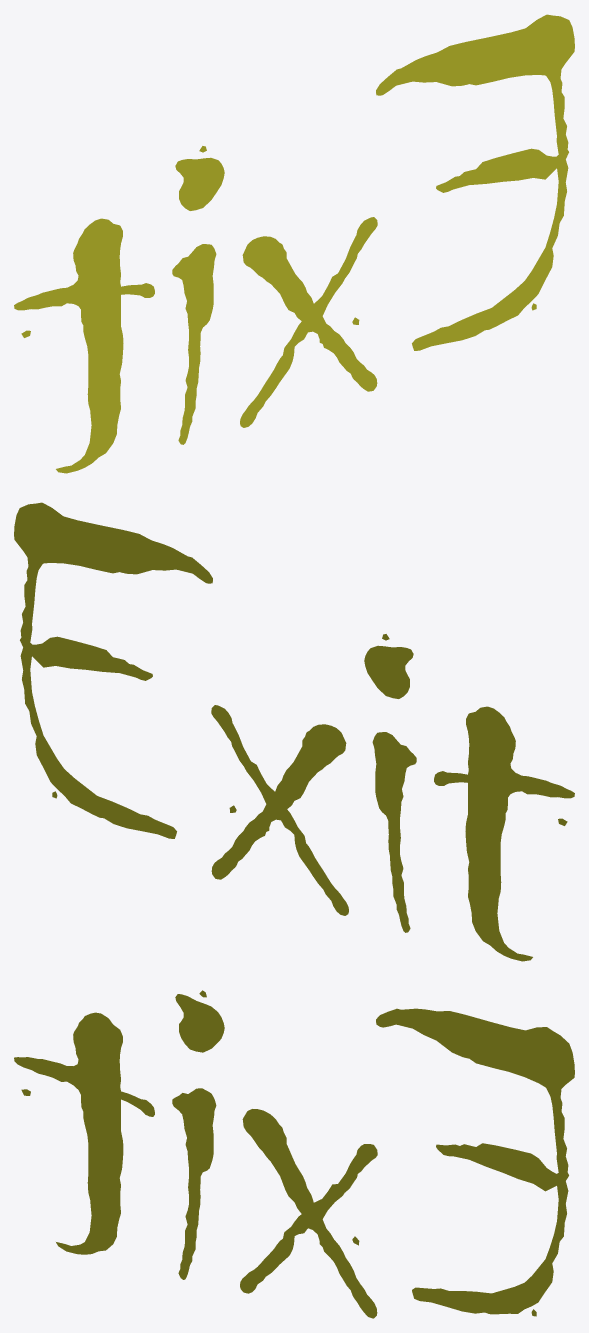
File: ExitMenuButtonText.obj
The picture shows the model from 3 angles, top to bottom: view 1: azimuth 30°, elevation 25°; view 2: azimuth 150°, elevation 25°; view 3: azimuth 330°, elevation 25°; orthographic projection.
Visible parts, largest first — view 1: ExitMenuButtonText; view 2: ExitMenuButtonText; view 3: ExitMenuButtonText.
Boxes of the visible parts, x1,y1,x2,y2 form: ExitMenuButtonText: (14, 14, 574, 473); ExitMenuButtonText: (14, 502, 574, 961); ExitMenuButtonText: (14, 990, 574, 1318).
Bounding box in the file's own units: 1 × 0.5844 × 0.
